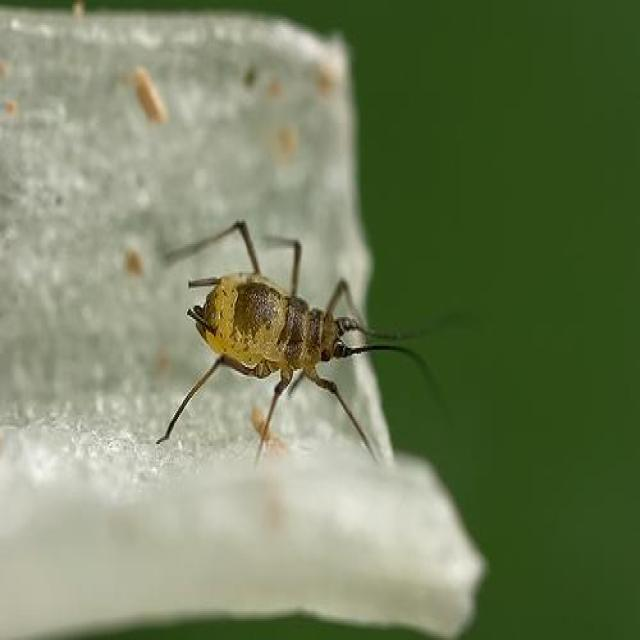aphid: (179, 211, 439, 471)
